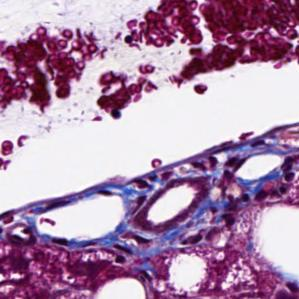inflammation: (215, 182, 255, 231)
